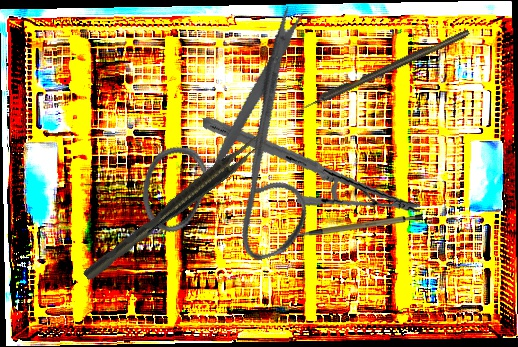Hook Surgical: (293, 28, 472, 114)
Iris Scissors: (99, 0, 373, 290)
Needle Holder: (202, 92, 421, 239)
Scalpel Handle: (294, 212, 423, 237)
Tissue Forceps: (78, 129, 272, 282)
